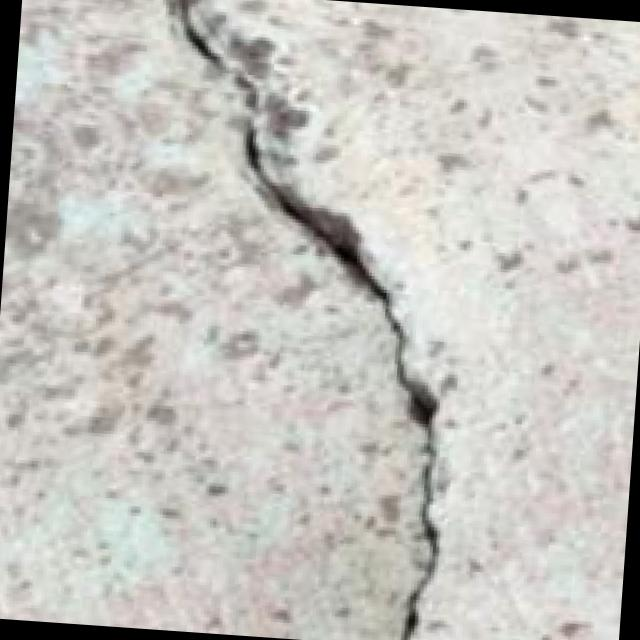crack: (99, 0, 508, 640)
